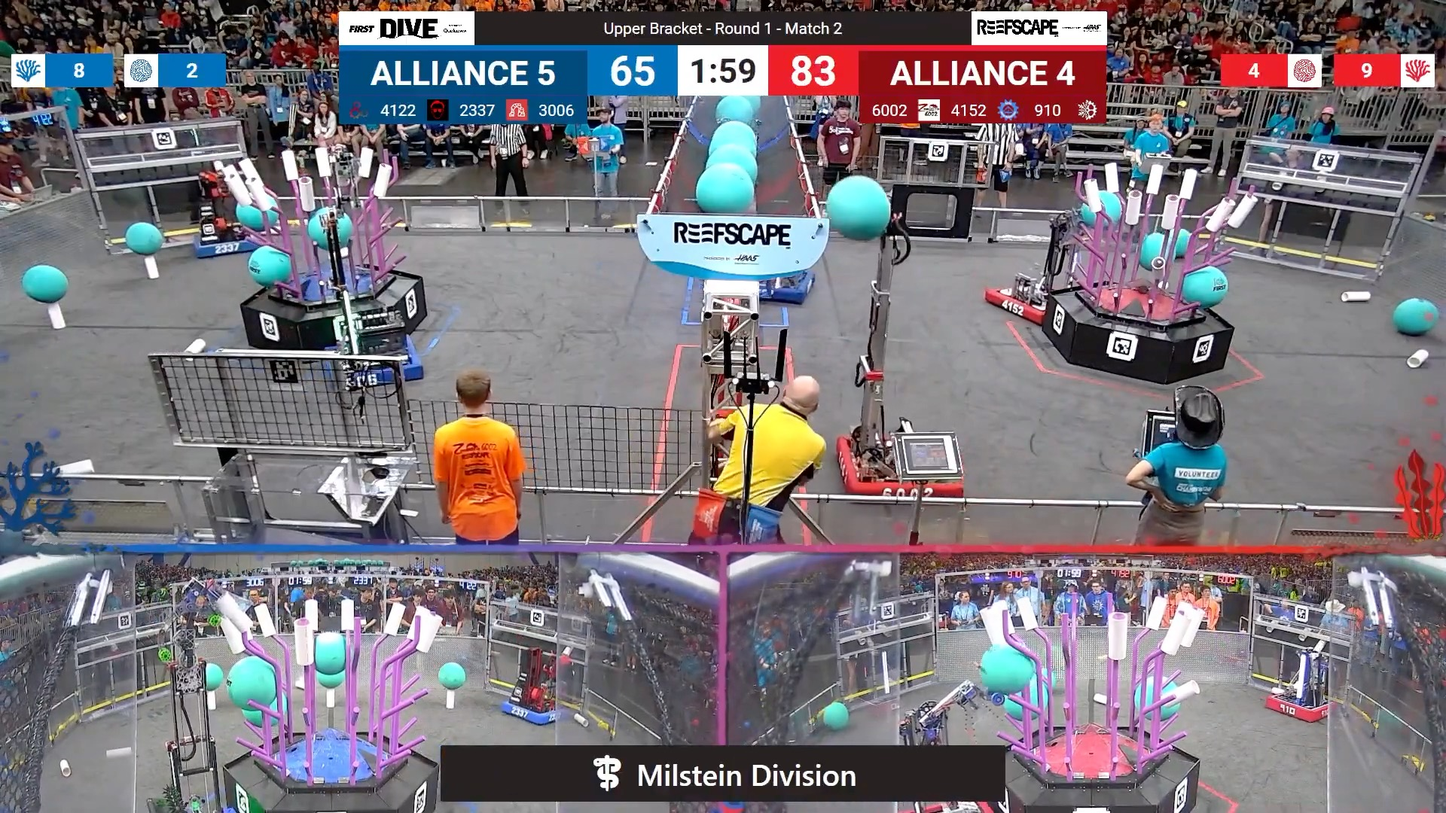bumpers: (834, 432, 971, 504), (319, 340, 428, 389), (979, 276, 1063, 328), (185, 221, 281, 263), (1258, 692, 1341, 725), (493, 695, 572, 729), (754, 271, 818, 305)
